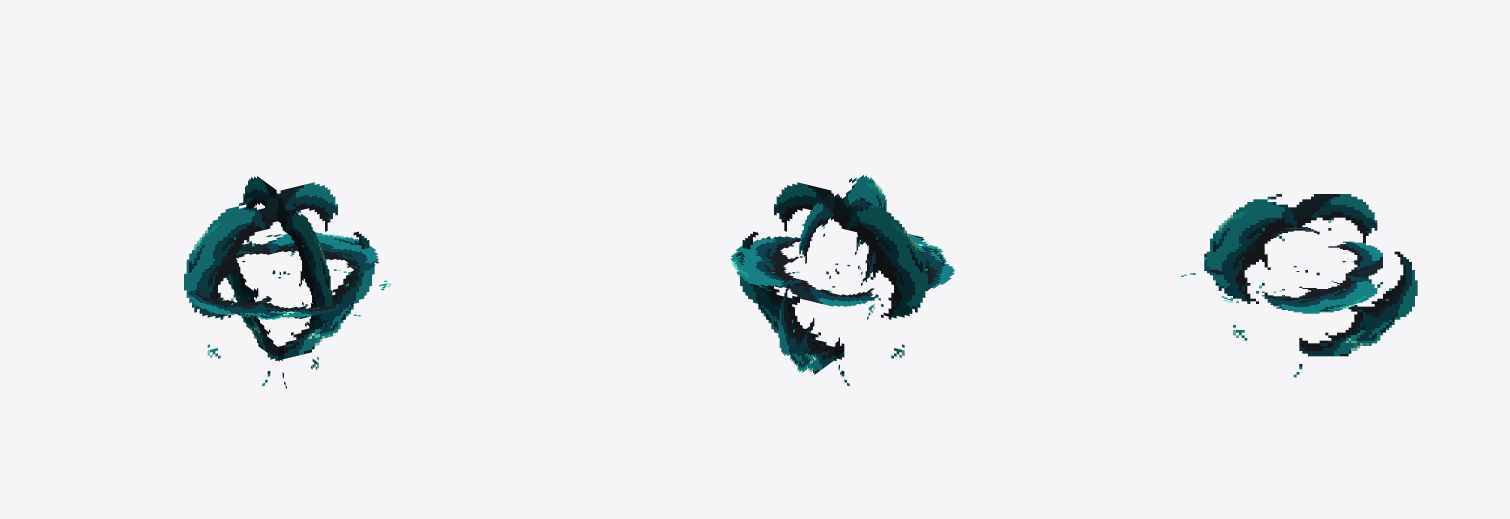
Rendered from vfx_gale_dash_8.gltf.
3 views of the same model, side by side, from view 1: azimuth 30°, elevation 25°; view 2: azimuth 150°, elevation 25°; view 3: azimuth 270°, elevation 25° (orthographic). The views are drawn at different scales.
Visible parts, largest first — view 1: cube (×3); view 2: cube (×3); view 3: cube (×2).
Boxes of the visible parts, box(x1,y1,x2,y2) form: cube (×3): box(184, 176, 391, 388); cube (×3): box(730, 175, 954, 385); cube (×2): box(1181, 194, 1417, 377).
Size of the model in its own units: 2.06 by 2.06 by 2.06.
Materials: 1 (1 with a texture image).
